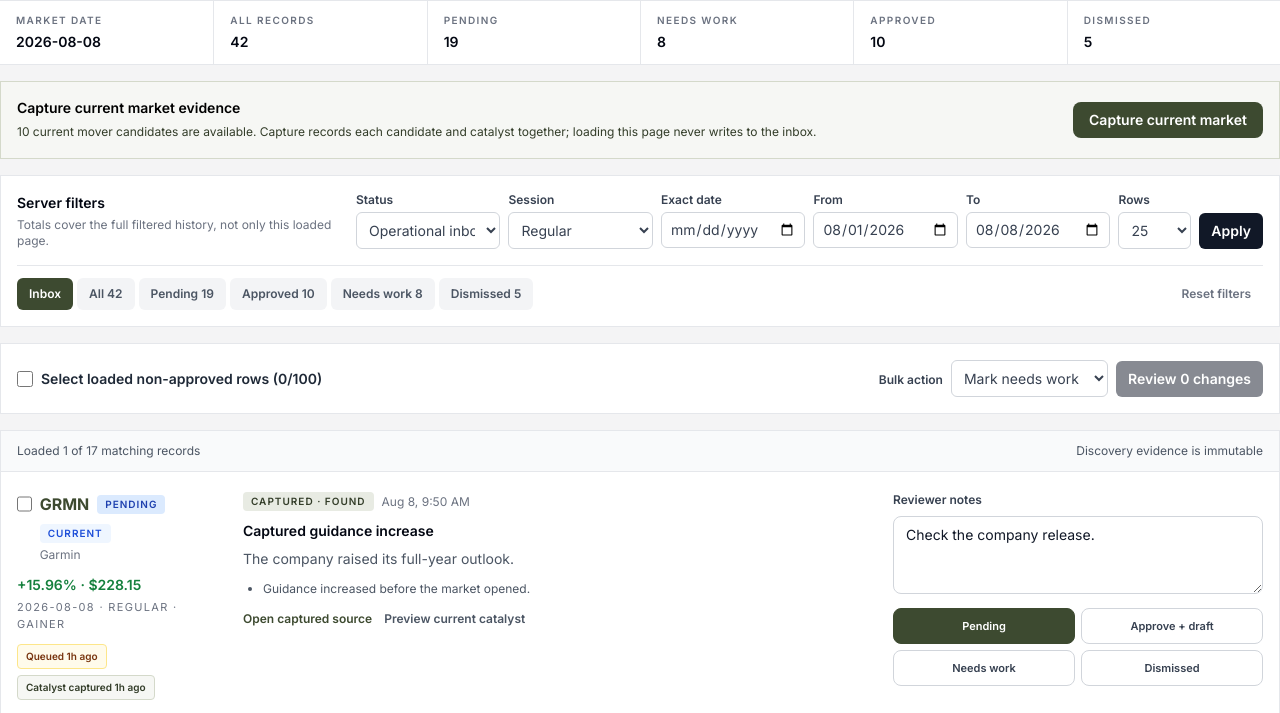
Test: WhyMovedReviewQueue › sends the loaded CAS token on individual review saves
Replace the text in the text box labelled "Reviewer notes" with "Use the primary filing." at (1078, 555), box [893,516,1263,594]
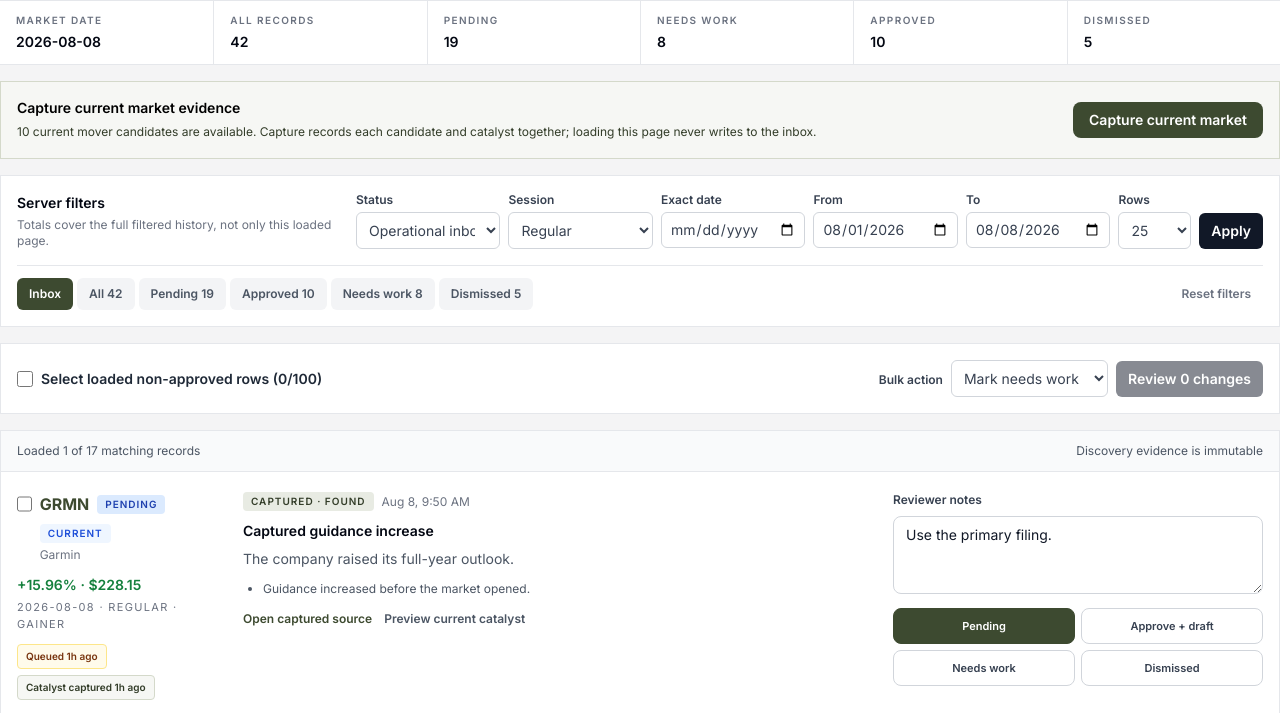
Click the button "Needs work".
click(984, 668)  # box [893,650,1075,686]
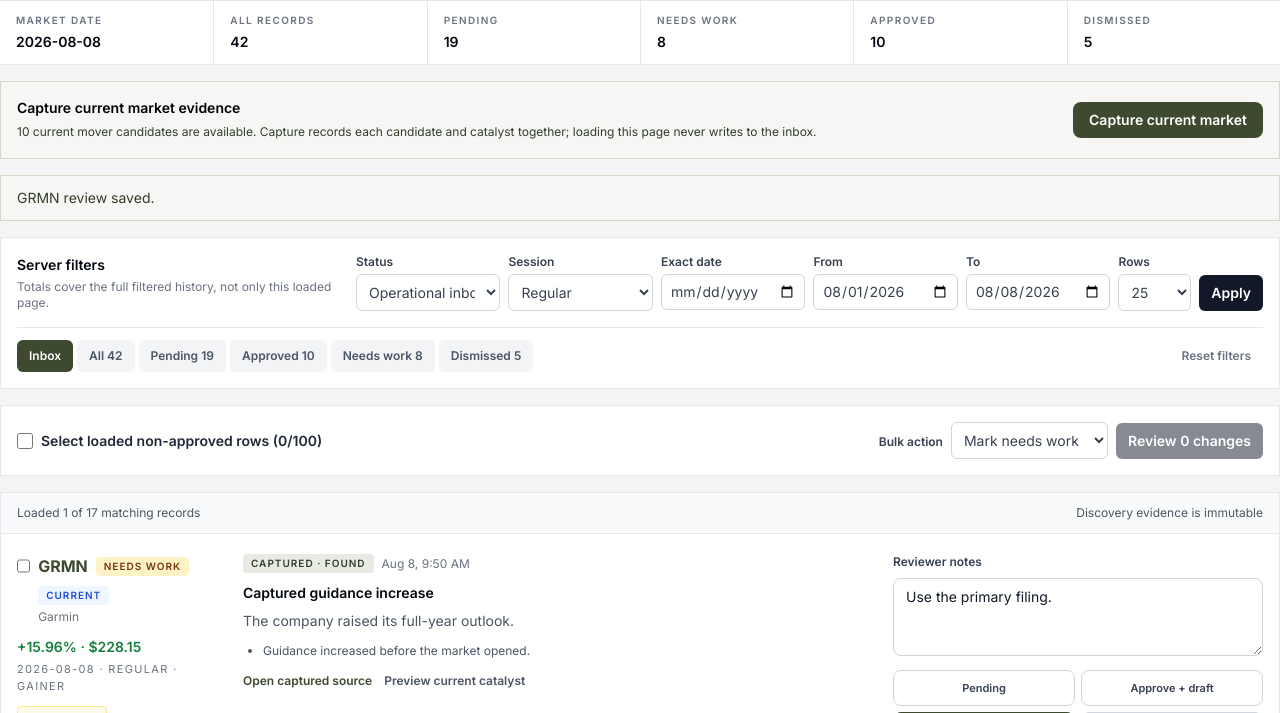
Expected: the text "GRMN review saved." is shown, [0,175,1279,221]
